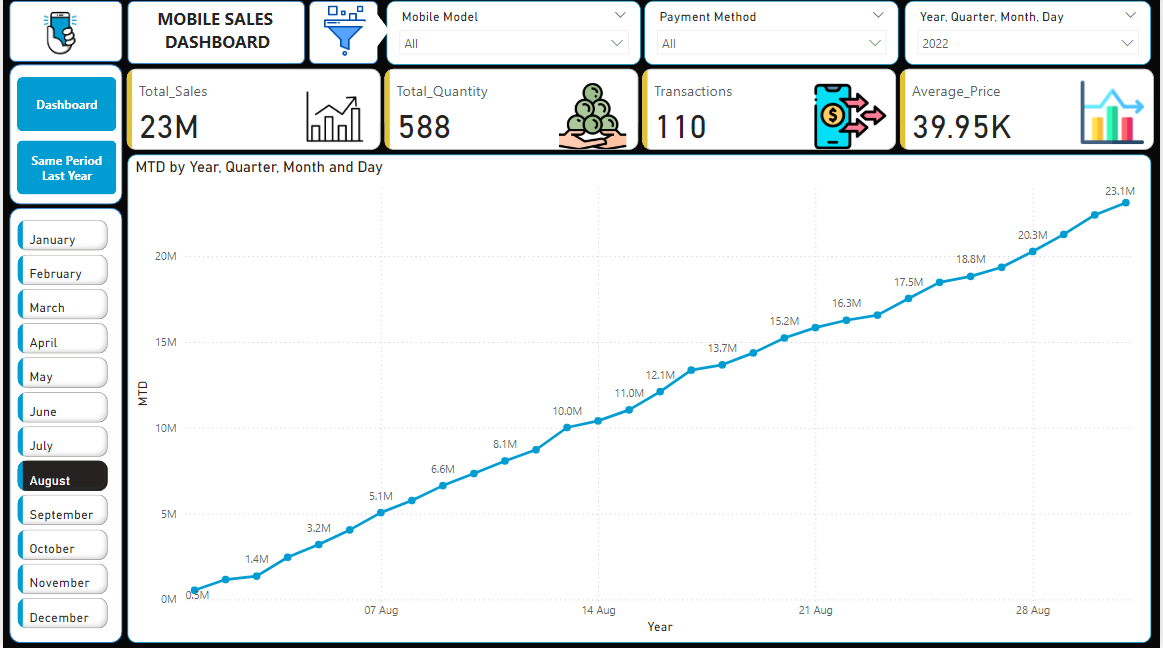

What the dashboard file says about the page in this screenshot:
{"tool":"powerbi","page":{"name":"MTD Report","canvas":[1280,720],"ordinal":1},"visuals":[{"type":"shape","box":[7.5,3.8,125,67.5],"z":0},{"type":"image","box":[23.8,3.8,78.8,71.2],"z":1000},{"type":"shape","box":[7.5,73.8,125,155],"z":2000},{"type":"cardVisual","fields":{"Data":["Sales_Data.Total_Sales","Sales_Data.Total_Quantity","Sales_Data.Transactions","Sales_Data.Average_Price"]},"box":[132.5,73.8,1147.5,100],"z":3000},{"type":"slicer","fields":{"Values":["Sales_Data.Mobile Model"]},"box":[423.8,3.8,281.2,71.2],"z":4000},{"type":"slicer","fields":{"Values":["Sales_Data.Payment Method"]},"box":[710,3.8,281.2,71.2],"z":5000},{"type":"slicer","fields":{"Values":["Custom_Calendar.Date.Variation.Date Hierarchy.Year","Custom_Calendar.Date.Variation.Date Hierarchy.Quarter","Custom_Calendar.Date.Variation.Date Hierarchy.Month","Custom_Calendar.Date.Variation.Date Hierarchy.Day"]},"box":[997.5,3.8,272.5,71.2],"z":6000},{"type":"shape","box":[338.8,3.8,76.2,70],"z":7000},{"type":"image","box":[337.5,3.8,81.2,66.2],"z":8000},{"type":"shape","box":[397.5,17.5,30,40],"z":9000},{"type":"shape","box":[137.5,3.8,196.2,70],"z":10000},{"type":"textbox","box":[156.2,6.2,162.5,63.8],"z":11000},{"type":"lineChart","fields":{"Y":["Sales_Data.MTD"],"Category":["Custom_Calendar.Date.Variation.Date Hierarchy.Year","Custom_Calendar.Date.Variation.Date Hierarchy.Quarter","Custom_Calendar.Date.Variation.Date Hierarchy.Month","Custom_Calendar.Date.Variation.Date Hierarchy.Day"]},"box":[137.5,173.8,1132.5,540],"z":12000},{"type":"shape","box":[7.5,232.5,125,481.2],"z":13000},{"type":"advancedSlicerVisual","fields":{"Values":["Custom_Calendar.Date.Variation.Date Hierarchy.Month"]},"box":[11.2,241.2,110,472.5],"z":14000},{"type":"pageNavigator","box":[15,88.8,110,130],"z":15000}]}

Visuals, with their boxes in screenshot pixels (x1, y1, x2, y2), scaled from the page's 1280x720 canvas onto the 1163x648 screenshot:
shape: pyautogui.locateOnScreen(7, 3, 120, 64)
image: pyautogui.locateOnScreen(22, 3, 93, 68)
shape: pyautogui.locateOnScreen(7, 66, 120, 206)
cardVisual - Sales_Data.Total_Sales x Sales_Data.Total_Quantity: pyautogui.locateOnScreen(120, 66, 1162, 156)
slicer - Sales_Data.Mobile Model: pyautogui.locateOnScreen(385, 3, 641, 68)
slicer - Sales_Data.Payment Method: pyautogui.locateOnScreen(645, 3, 901, 68)
slicer - Custom_Calendar.Date.Variation.Date Hierarchy.Year x Custom_Calendar.Date.Variation.Date Hierarchy.Quarter: pyautogui.locateOnScreen(906, 3, 1154, 68)
shape: pyautogui.locateOnScreen(308, 3, 377, 66)
image: pyautogui.locateOnScreen(307, 3, 380, 63)
shape: pyautogui.locateOnScreen(361, 16, 388, 52)
shape: pyautogui.locateOnScreen(125, 3, 303, 66)
textbox: pyautogui.locateOnScreen(142, 6, 290, 63)
lineChart - Sales_Data.MTD x Custom_Calendar.Date.Variation.Date Hierarchy.Year: pyautogui.locateOnScreen(125, 156, 1154, 642)
shape: pyautogui.locateOnScreen(7, 209, 120, 642)
advancedSlicerVisual - Custom_Calendar.Date.Variation.Date Hierarchy.Month: pyautogui.locateOnScreen(10, 217, 110, 642)
pageNavigator: pyautogui.locateOnScreen(14, 80, 114, 197)
